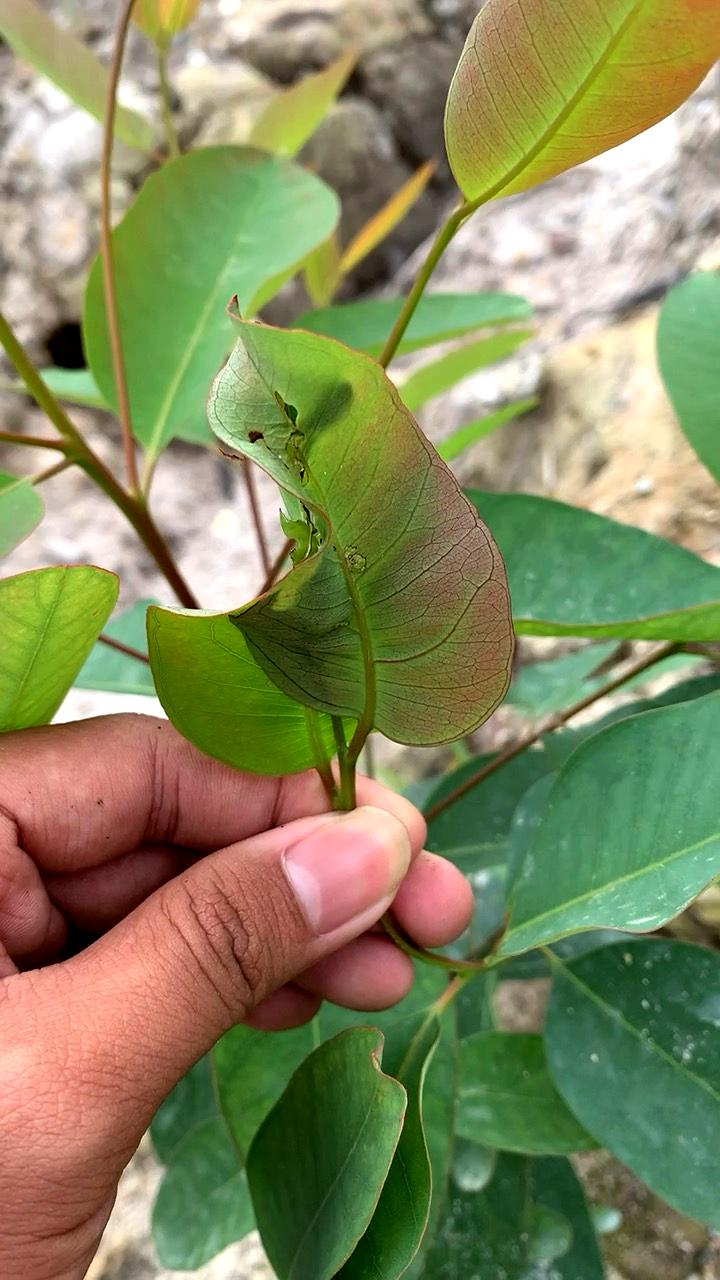Leaf Roller - Leaf: (117, 276, 545, 800)
